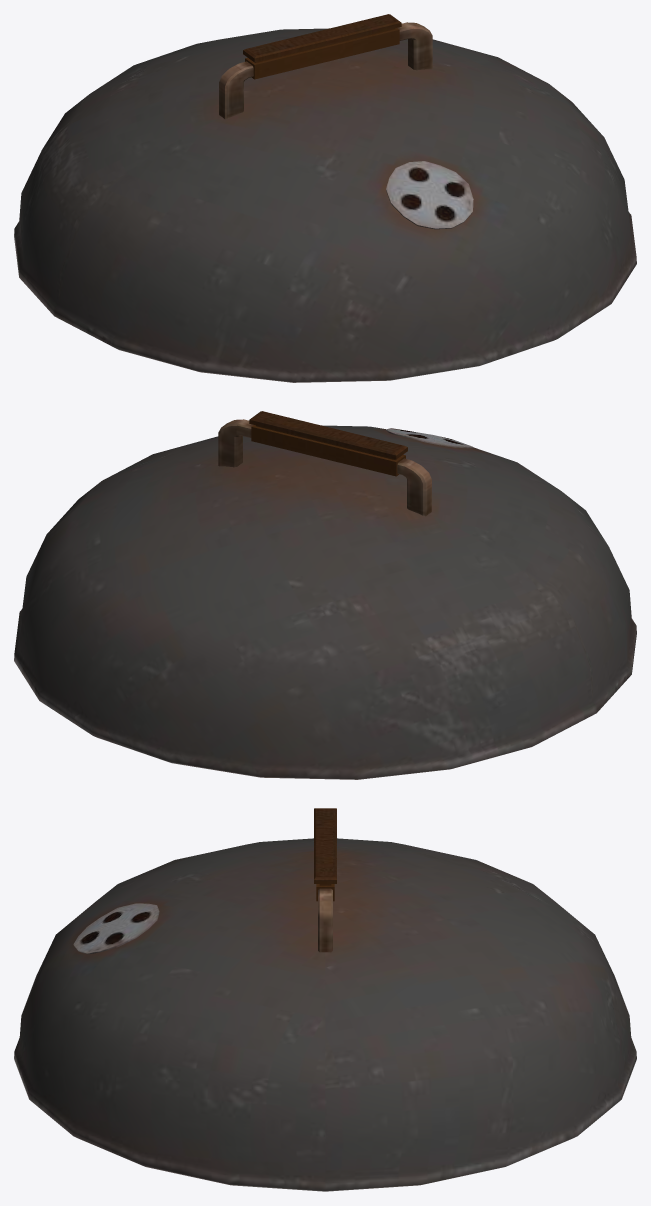
Rendered from charcoal-grill-lid.glb.
3 views of the same model, one above another, from view 1: azimuth 30°, elevation 25°; view 2: azimuth 150°, elevation 25°; view 3: azimuth 270°, elevation 25° (orthographic).
Parts seen in each view (by area): view 1: Lid, polySurface2, Lid1, polySurface4, polySurface6; view 2: Lid, polySurface2, polySurface4, polySurface6, Lid1; view 3: Lid, Lid1, polySurface2, polySurface6.
Part boxes in pixels (x1,y1,x2,y2): Lid: (14, 28, 636, 382); polySurface2: (243, 14, 401, 79); Lid1: (386, 161, 473, 229); polySurface4: (219, 61, 253, 119); polySurface6: (397, 22, 432, 70); Lid: (14, 425, 636, 779); polySurface2: (249, 411, 407, 476); polySurface4: (397, 458, 431, 516); polySurface6: (218, 419, 253, 467); Lid1: (386, 428, 473, 448); Lid: (14, 838, 636, 1191); Lid1: (73, 903, 159, 954); polySurface2: (314, 808, 336, 901); polySurface6: (318, 888, 332, 952).
Bounding box in the file's own units: 0.5288 × 0.2041 × 0.5288.
Materials: 4 (4 with a texture image).
